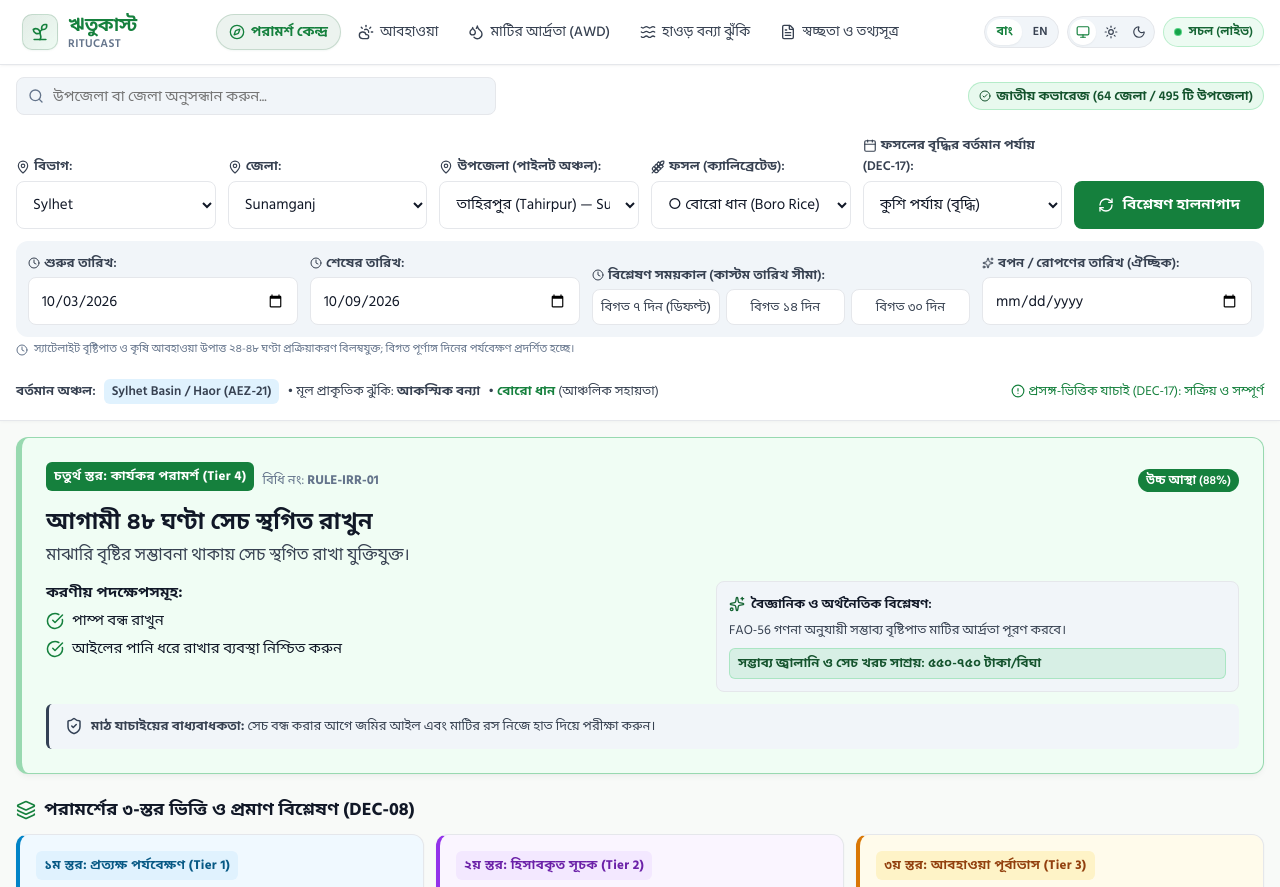
Test: Phase 16: User Acceptance, Usability, and Field Readiness Test Suite › Accessibility: brand logo supports keyboard Enter and Space navigation
Expected: the heading "আগামী ৪৮ ঘণ্টা সেচ স্থগিত রাখুন" is shown, [46,503,373,541]
// Switch to Weather tab first
Click the button "আবহাওয়া" at (398, 32), box [345,14,451,50]
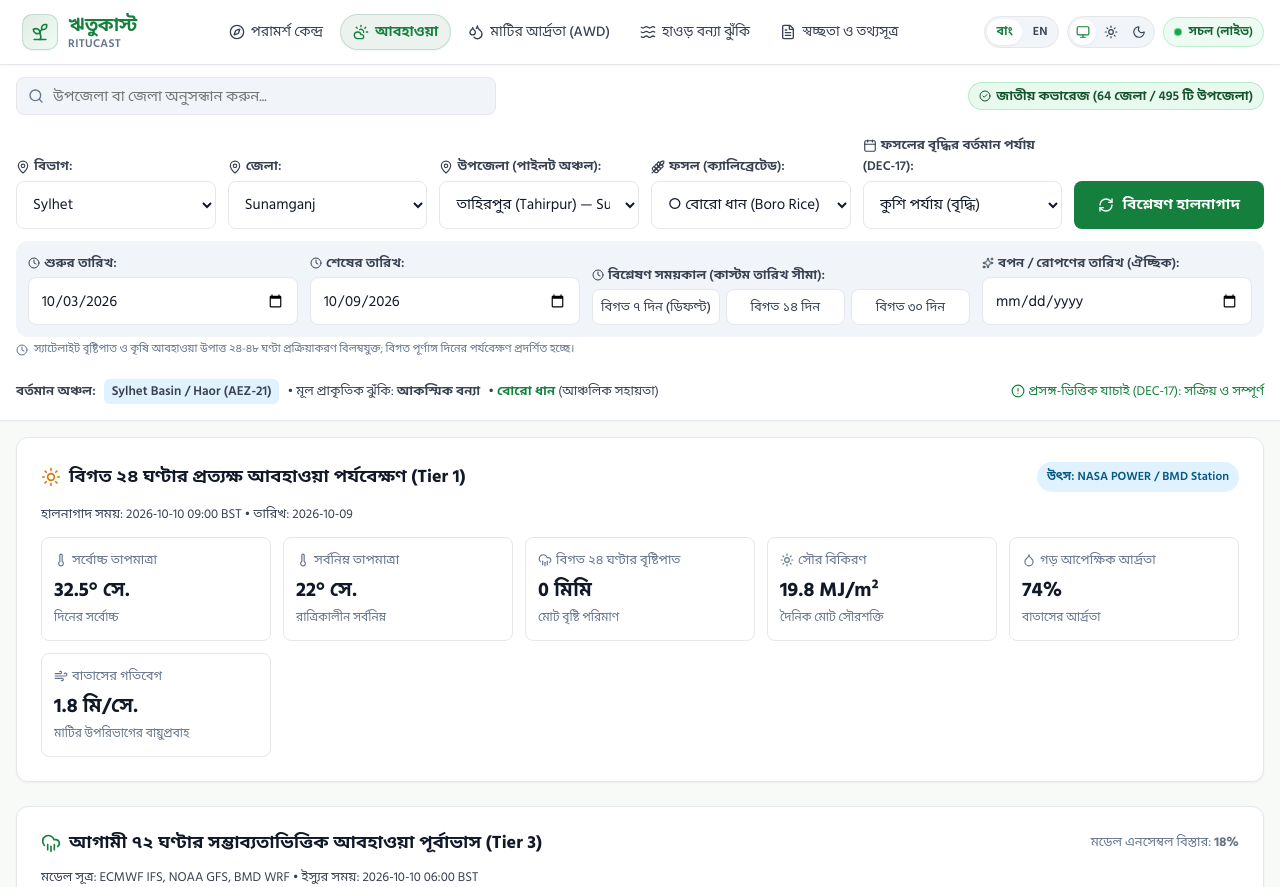
Now the text "বিগত ২৪ ঘণ্টার প্রত্যক্ষ আবহাওয়া পর্যবেক্ষণ (Tier 1)" is shown, box [69,465,466,489]
Press Enter in the button with aria-label "ঋতুকাস্ট হোমপেইজে যান", box [16,10,143,54]
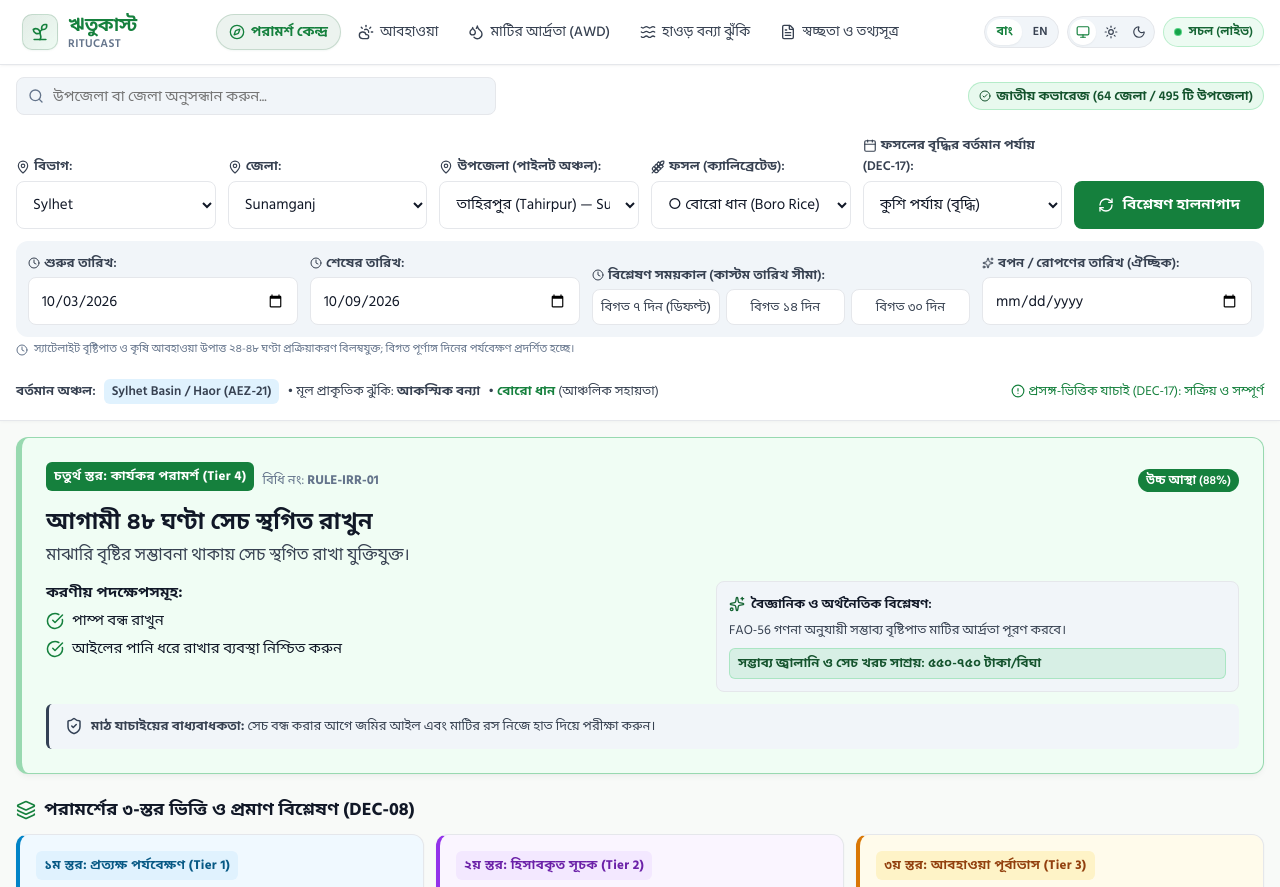
Now the heading "আগামী ৪৮ ঘণ্টা সেচ স্থগিত রাখুন" is shown, box [46,503,373,541]
